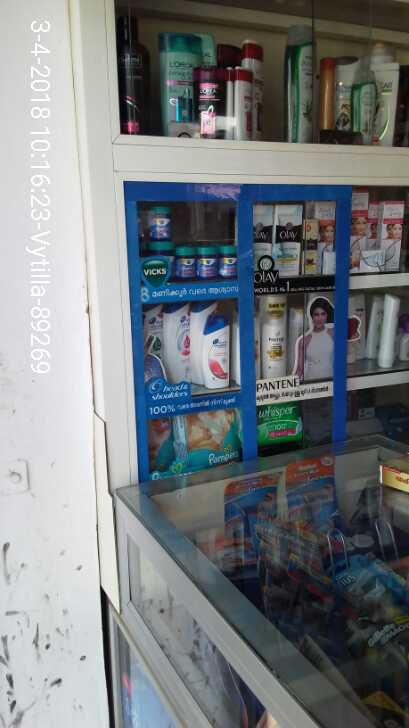vicks: (148, 210, 236, 280)
